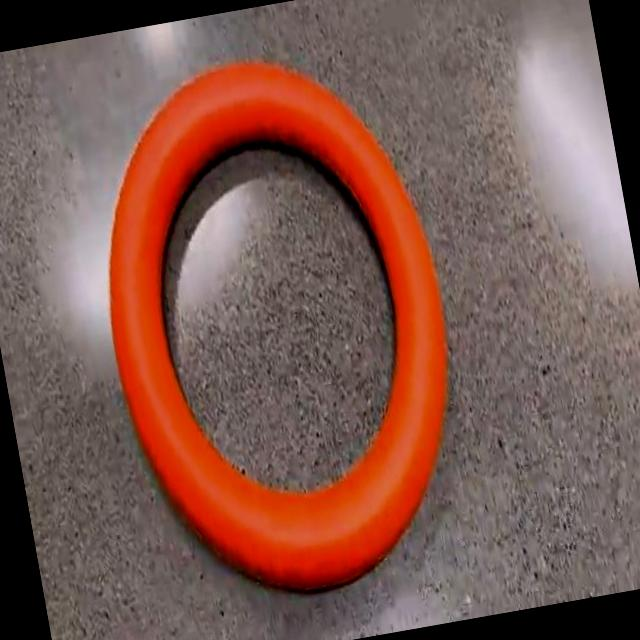note: (109, 62, 446, 587)
